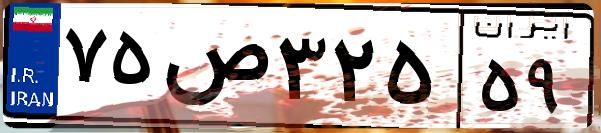2: (330, 28, 385, 110)
3: (270, 28, 330, 110)
5: (385, 28, 445, 110), (475, 38, 525, 113), (110, 28, 158, 98)
7: (57, 26, 110, 100)
9: (525, 38, 570, 115)
ص: (158, 20, 270, 120)
